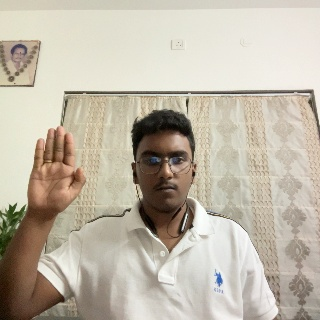Face: (132, 109, 197, 216)
Hello: (28, 126, 85, 229)
